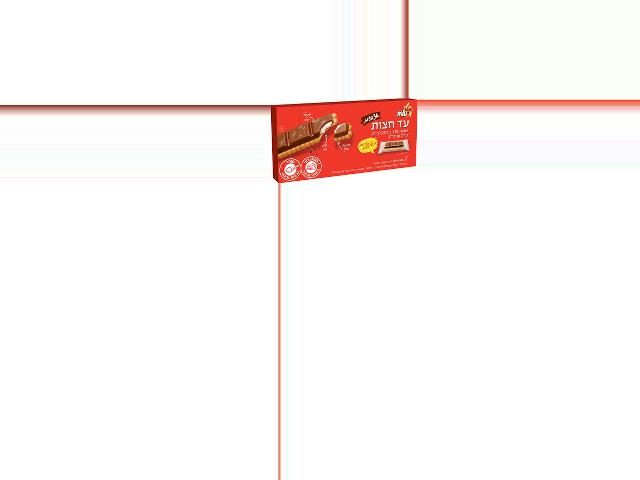chocolate: (272, 104, 418, 174)
